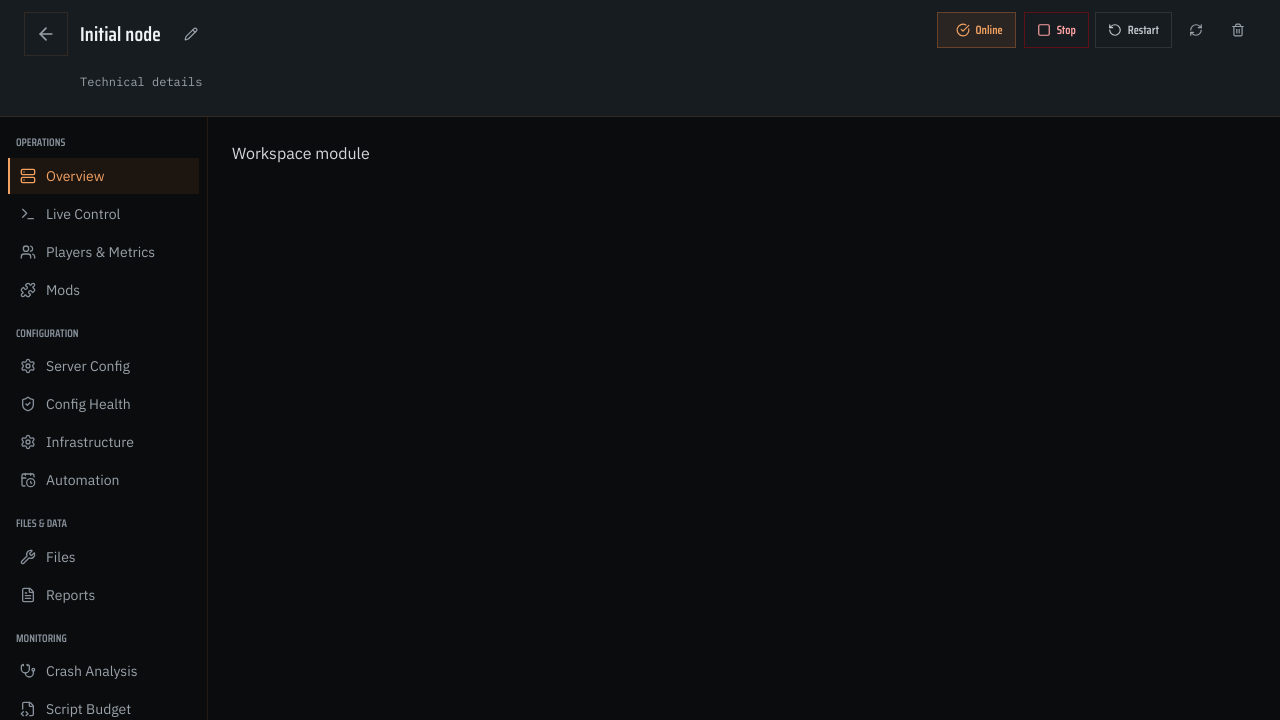
Test: server workspace request ordering › does not let a summary started before a newer full refresh overwrite it
Click the button named "refresh server" at point(1196, 30), box top-left (1178, 12), bottom-right (1214, 48)
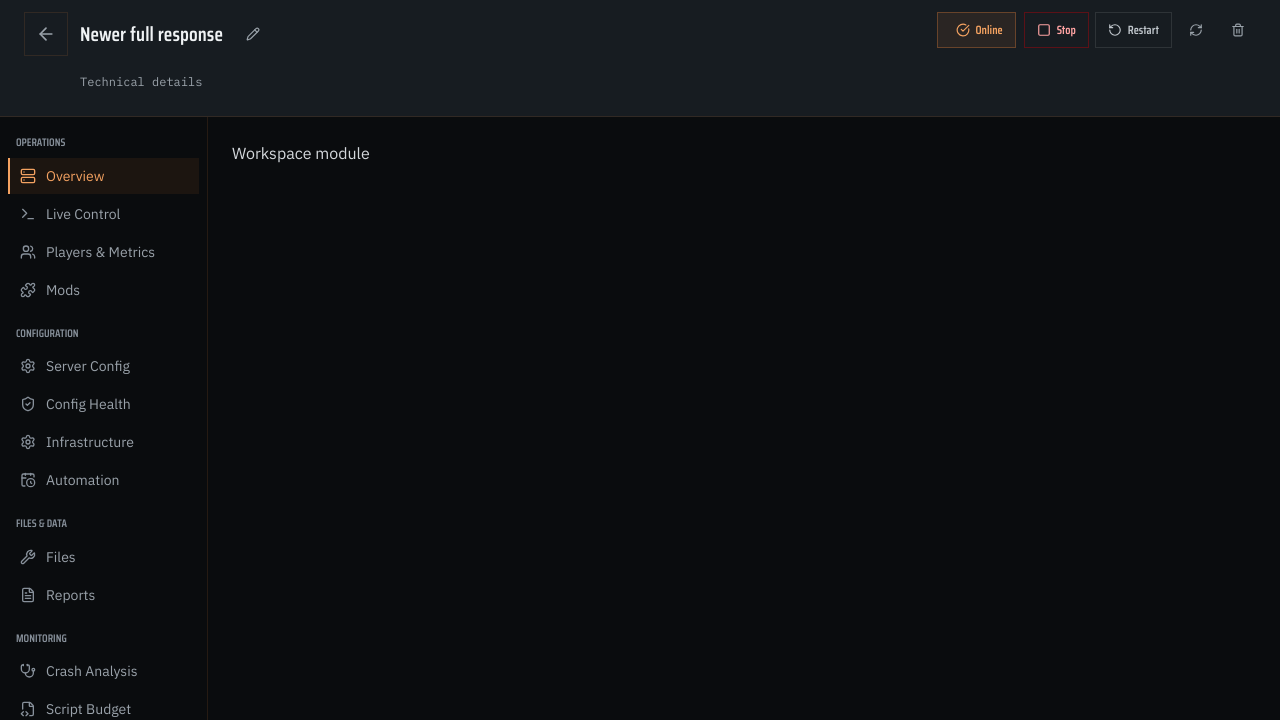
Expected: the heading "Newer full response" is shown, top-left (80, 22), bottom-right (223, 46)
